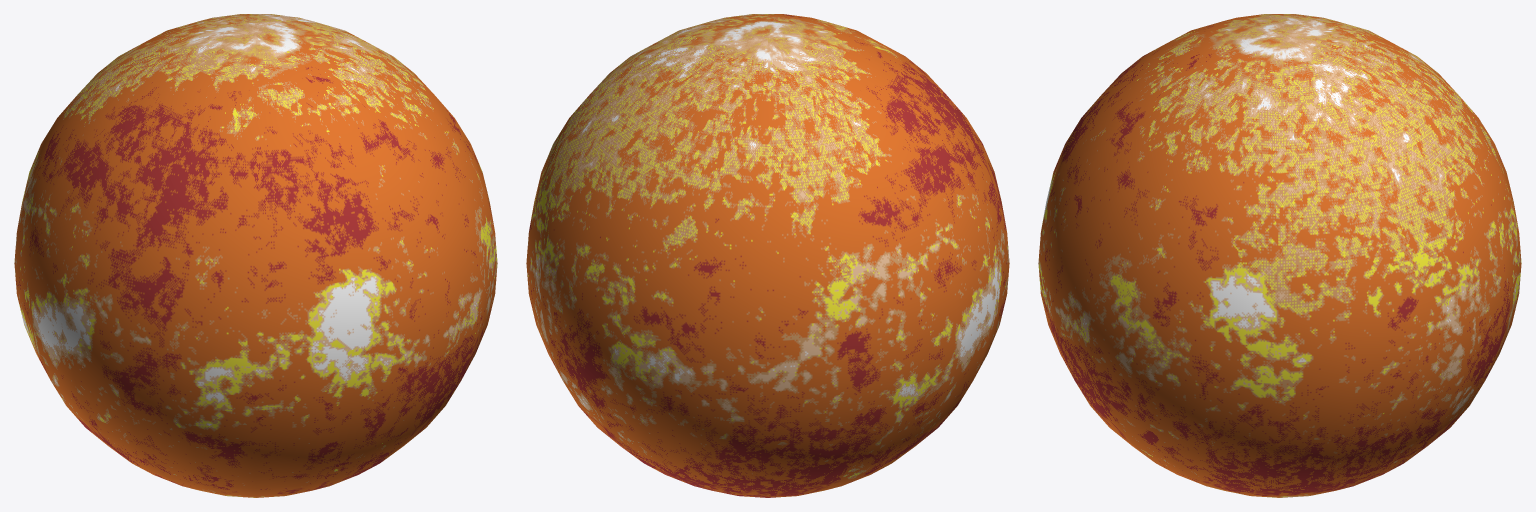
The model's file is sun.fbx.
3 renders of one model, left to right at view 1: azimuth 30°, elevation 25°; view 2: azimuth 150°, elevation 25°; view 3: azimuth 270°, elevation 25°, orthographic.
Parts seen in each view (by area): view 1: pSphere3; view 2: pSphere3; view 3: pSphere3.
Boxes of the visible parts, x1,y1,x2,y2 form: pSphere3: (14, 14, 497, 497); pSphere3: (526, 14, 1009, 497); pSphere3: (1038, 14, 1521, 497).
Size of the model in its own units: 117 by 117 by 117.
Materials: 1 (1 with a texture image).
